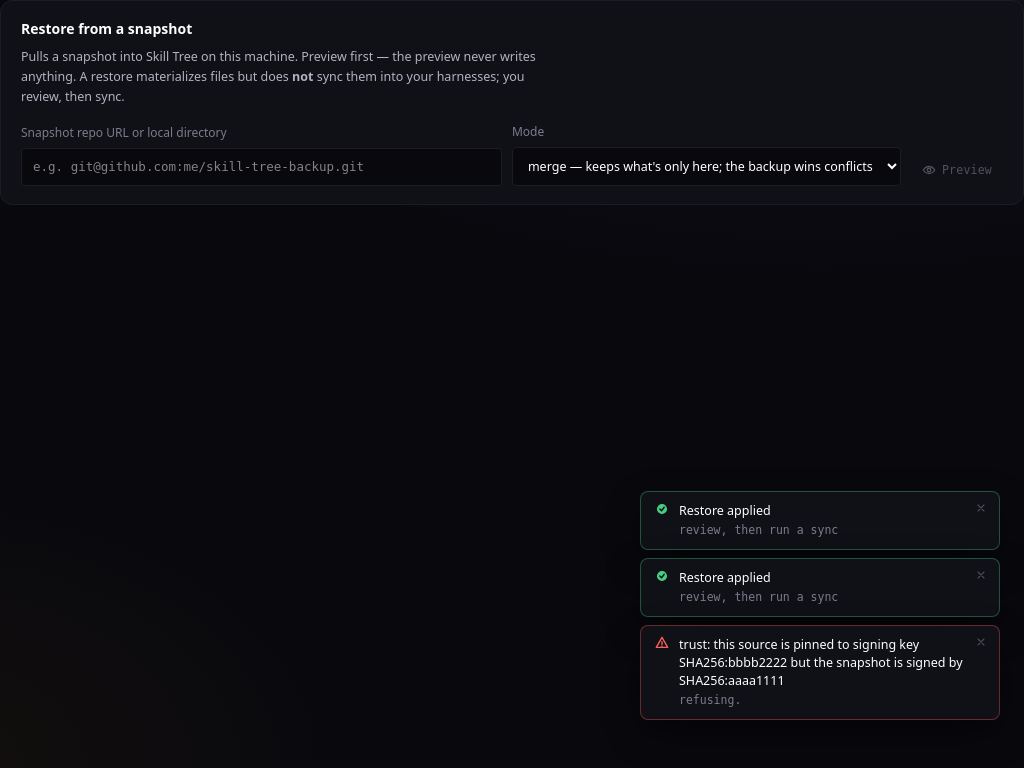
Scenario: RestoreDangerZone — trust gates › refuses a snapshot whose tree digest does not match, and says why
Type "/snap" into the field labelled "Snapshot repo URL or local directory".
click(261, 167); type("/snap")  # box left=21, top=148, right=502, bottom=186
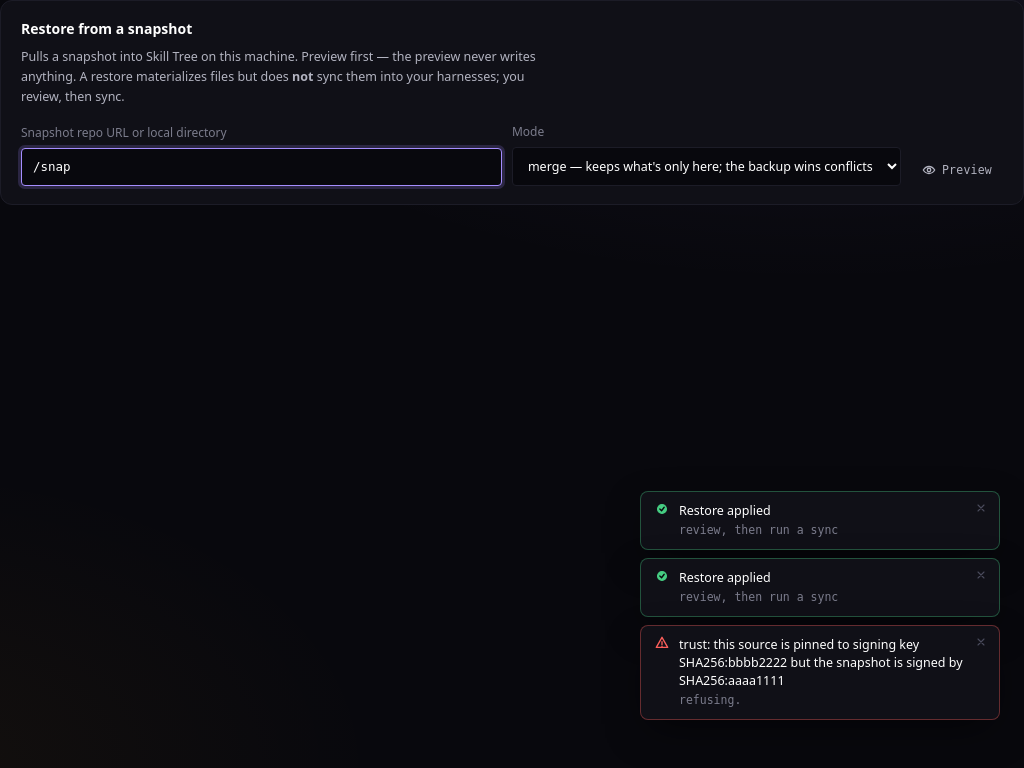
Click the button with test id "restore-preview-btn".
click(957, 170)  # box left=911, top=155, right=1003, bottom=186
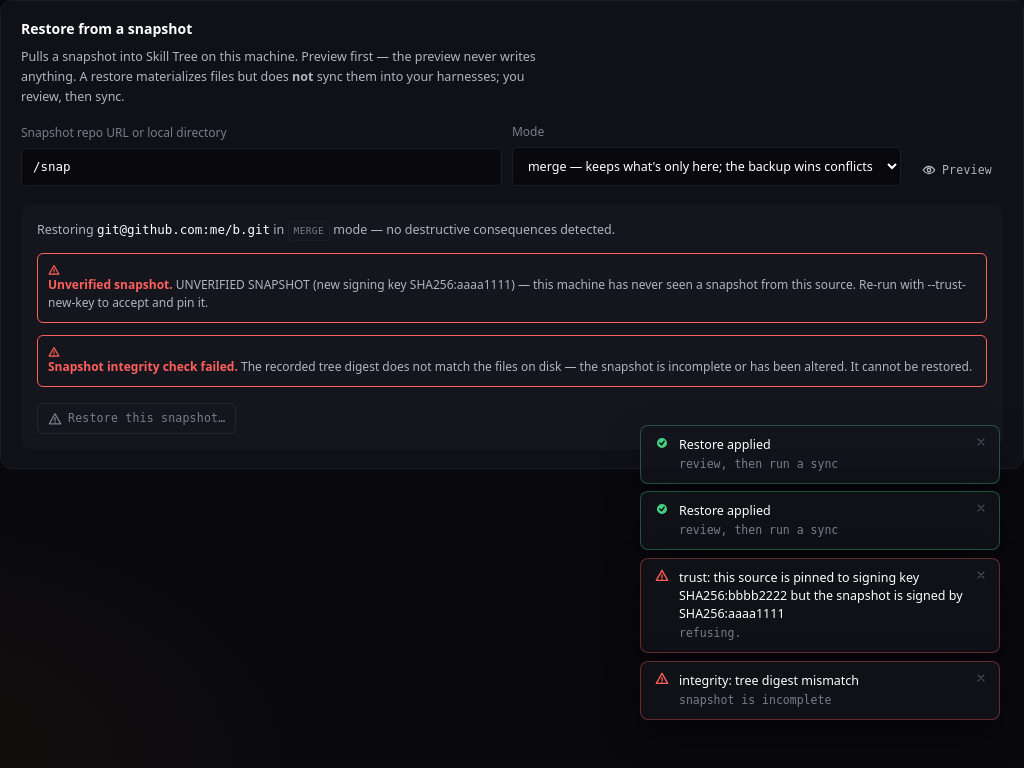
Expected: the element with test id "restore-consequences" is shown, left=37, top=220, right=987, bottom=387
Expected: the message with test id "restore-integrity-failed" shows "integrity check failed", left=48, top=358, right=238, bottom=375
